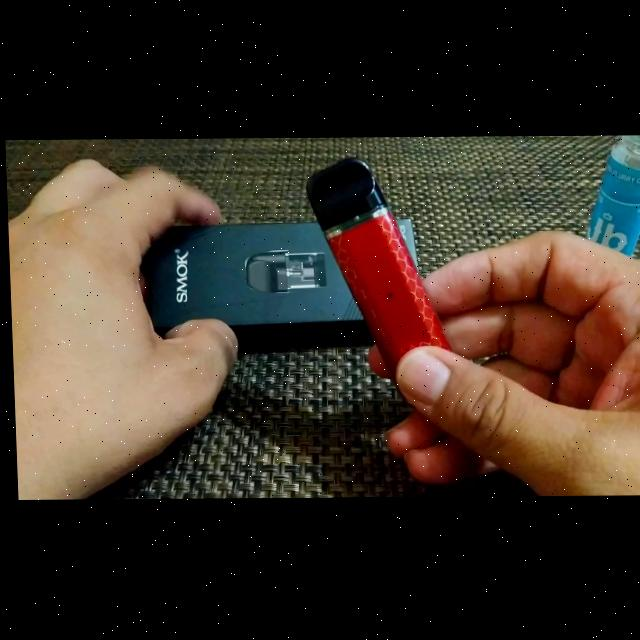vape: (305, 157, 454, 396)
